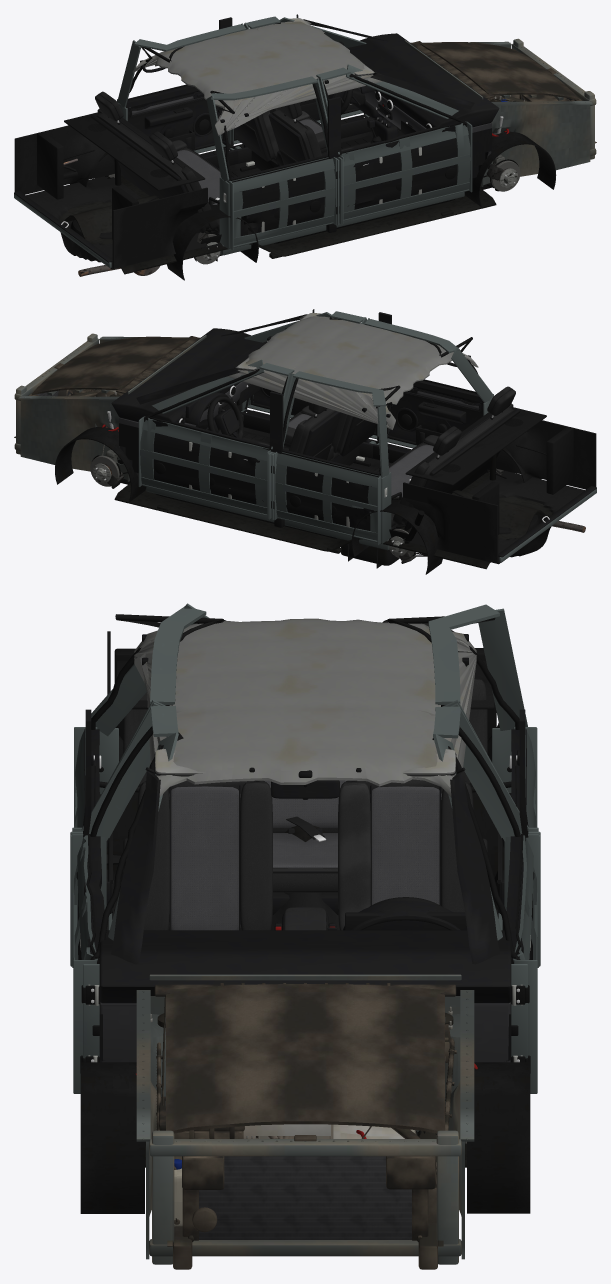
Rendered from barao_completo.glb.
3 views of the same model, one above another, from view 1: azimuth 30°, elevation 25°; view 2: azimuth 150°, elevation 25°; view 3: azimuth 270°, elevation 25° (orthographic). The views are drawn at different scales.
Visible parts, largest first — view 1: interior_forro_teto, interior_portamalas_carpete, interior_painel, under_assoalho, door_card_fr_chapa, engine_paralama_interno_dir, interior_banco_traseiro, door_card_rr_chapa, hood_manta, door_card_fr, door_card_rl, door_card_rr (+25 smaller); view 2: interior_forro_teto, interior_portamalas_carpete, interior_painel, under_assoalho, door_card_fl_chapa, engine_paralama_interno_esq, interior_banco_traseiro, door_card_rl_chapa, hood_manta, door_card_fl, door_card_rr, door_card_rl (+26 smaller); view 3: interior_forro_teto, hood_manta, interior_painel, engine_travessa, interior_banco_dianteiro_dir, engine_radiador, interior_banco_dianteiro_esq, interior_acabamento_colunas, under_caixa_roda_fr, under_caixa_roda_fl, interior_banco_traseiro, jamb_rl_colunas (+27 smaller).
Boxes of the visible parts, x1=… form: interior_forro_teto: x1=132, y1=20, x2=382, y2=135; interior_portamalas_carpete: x1=14, y1=125, x2=207, y2=269; interior_painel: x1=346, y1=33, x2=499, y2=165; under_assoalho: x1=59, y1=175, x2=496, y2=274; door_card_fr_chapa: x1=339, y1=121, x2=472, y2=223; engine_paralama_interno_dir: x1=483, y1=96, x2=592, y2=184; interior_banco_traseiro: x1=90, y1=91, x2=226, y2=234; door_card_rr_chapa: x1=227, y1=157, x2=336, y2=250; hood_manta: x1=419, y1=42, x2=579, y2=100; door_card_fr: x1=341, y1=121, x2=464, y2=209; door_card_rl: x1=126, y1=84, x2=222, y2=149; door_card_rr: x1=231, y1=154, x2=328, y2=236; interior_forro_teto: x1=227, y1=315, x2=478, y2=429; interior_portamalas_carpete: x1=403, y1=420, x2=596, y2=564; interior_painel: x1=111, y1=328, x2=267, y2=460; under_assoalho: x1=114, y1=472, x2=552, y2=569; door_card_fl_chapa: x1=138, y1=416, x2=270, y2=518; engine_paralama_interno_esq: x1=18, y1=391, x2=127, y2=479; interior_banco_traseiro: x1=389, y1=386, x2=520, y2=530; door_card_rl_chapa: x1=274, y1=452, x2=381, y2=545; hood_manta: x1=31, y1=336, x2=191, y2=395; door_card_fl: x1=146, y1=415, x2=269, y2=504; door_card_rr: x1=388, y1=379, x2=483, y2=444; door_card_rl: x1=281, y1=449, x2=379, y2=530; interior_forro_teto: x1=134, y1=618, x2=476, y2=796; hood_manta: x1=165, y1=984, x2=445, y2=1133; interior_painel: x1=99, y1=901, x2=511, y2=1062; engine_travessa: x1=149, y1=1126, x2=461, y2=1264; interior_banco_dianteiro_dir: x1=137, y1=780, x2=282, y2=930; engine_radiador: x1=182, y1=1156, x2=428, y2=1241; interior_banco_dianteiro_esq: x1=328, y1=779, x2=473, y2=930; interior_acabamento_colunas: x1=83, y1=709, x2=528, y2=964; under_caixa_roda_fr: x1=80, y1=1062, x2=144, y2=1213; under_caixa_roda_fl: x1=467, y1=1062, x2=530, y2=1213; interior_banco_traseiro: x1=123, y1=619, x2=487, y2=914; jamb_rl_colunas: x1=428, y1=604, x2=540, y2=837.
Size of what is drawn, in the model's own units: 4.24 by 1.43 by 1.69.
Materials: 55 (55 with a texture image).
